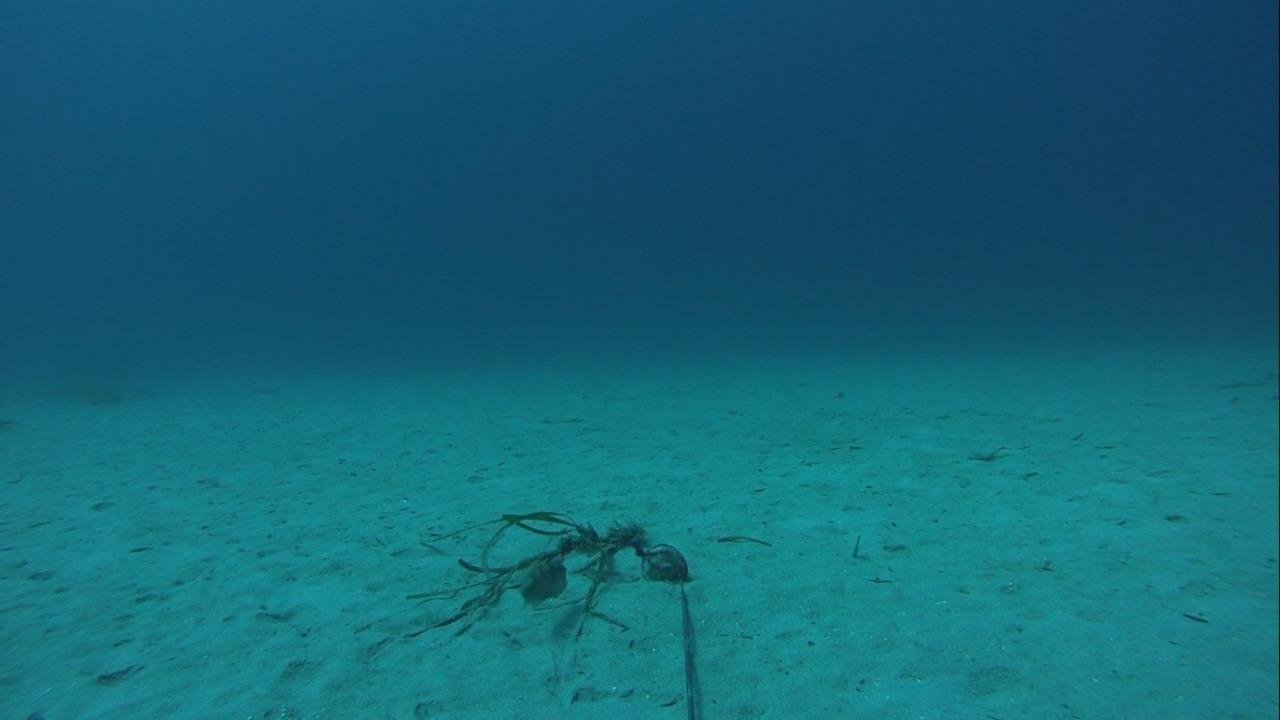raor: (512, 554, 571, 606)
